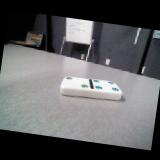domino: (60, 77, 122, 100)
